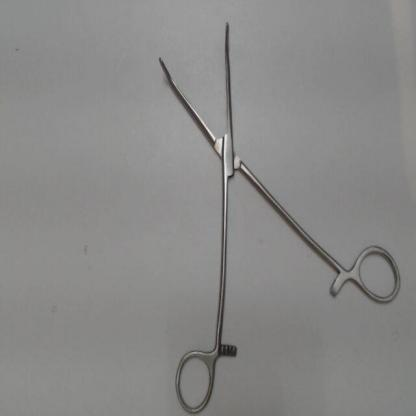Lahey Forceps: (150, 15, 410, 414)
